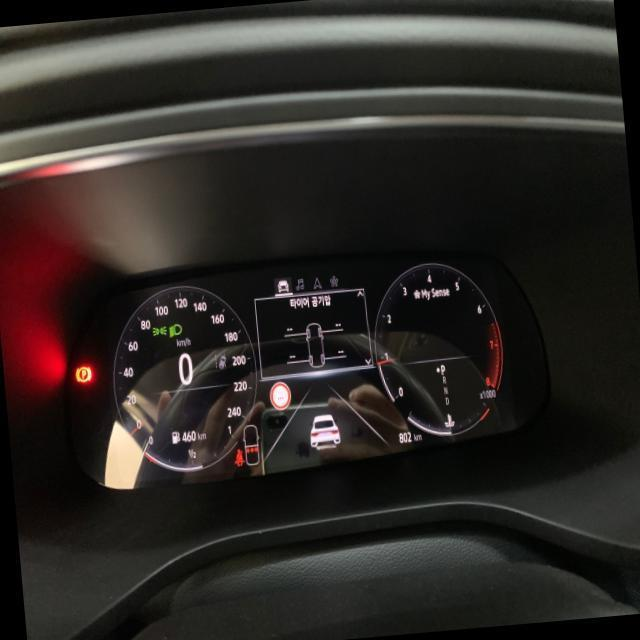Low beam: (167, 321, 182, 337)
SideLamp: (150, 324, 166, 336)
